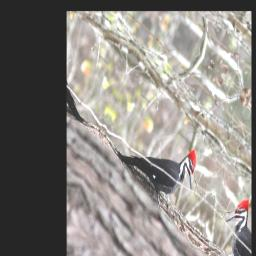Woodpecker: (109, 95, 205, 226)
